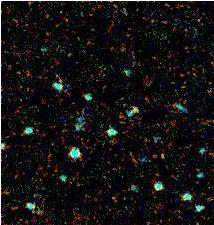star: (50, 97, 80, 127)
